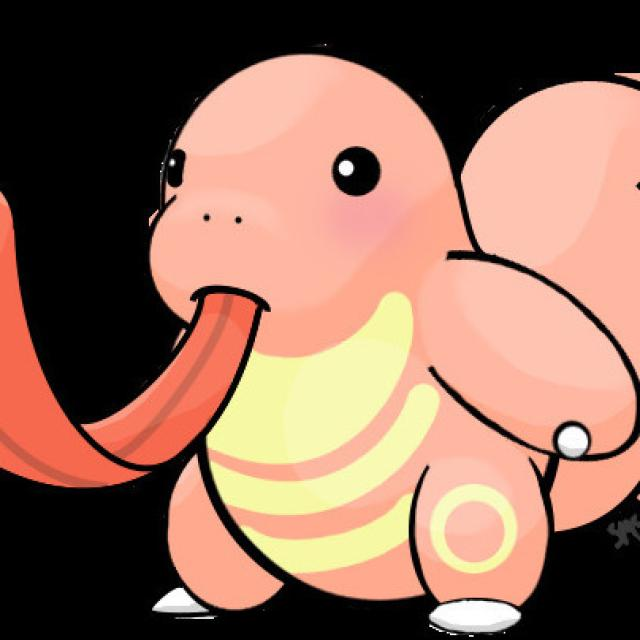Lickitung: (76, 46, 596, 634)
